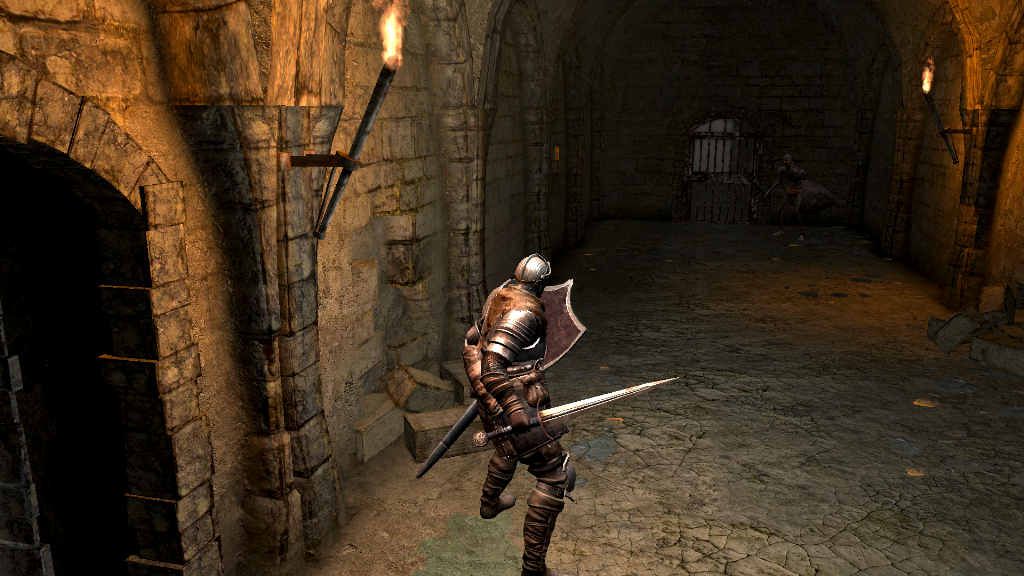player: (461, 253, 680, 576)
undeadSoldier: (764, 154, 812, 241)
